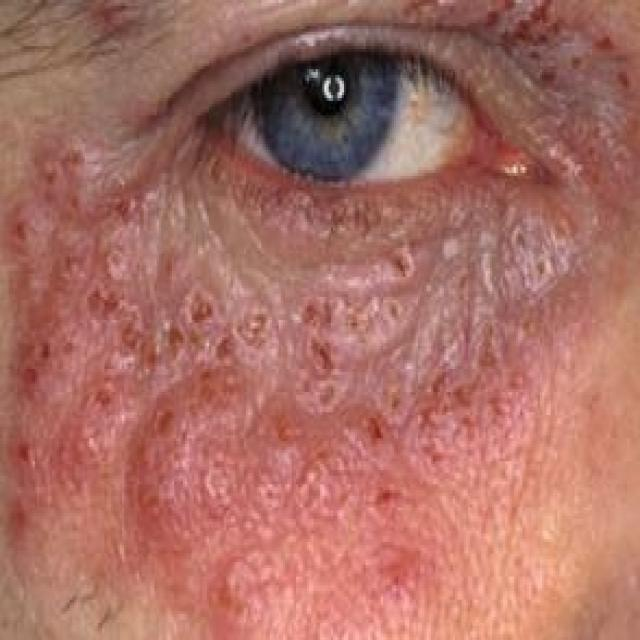Eczema: (6, 6, 630, 574)
